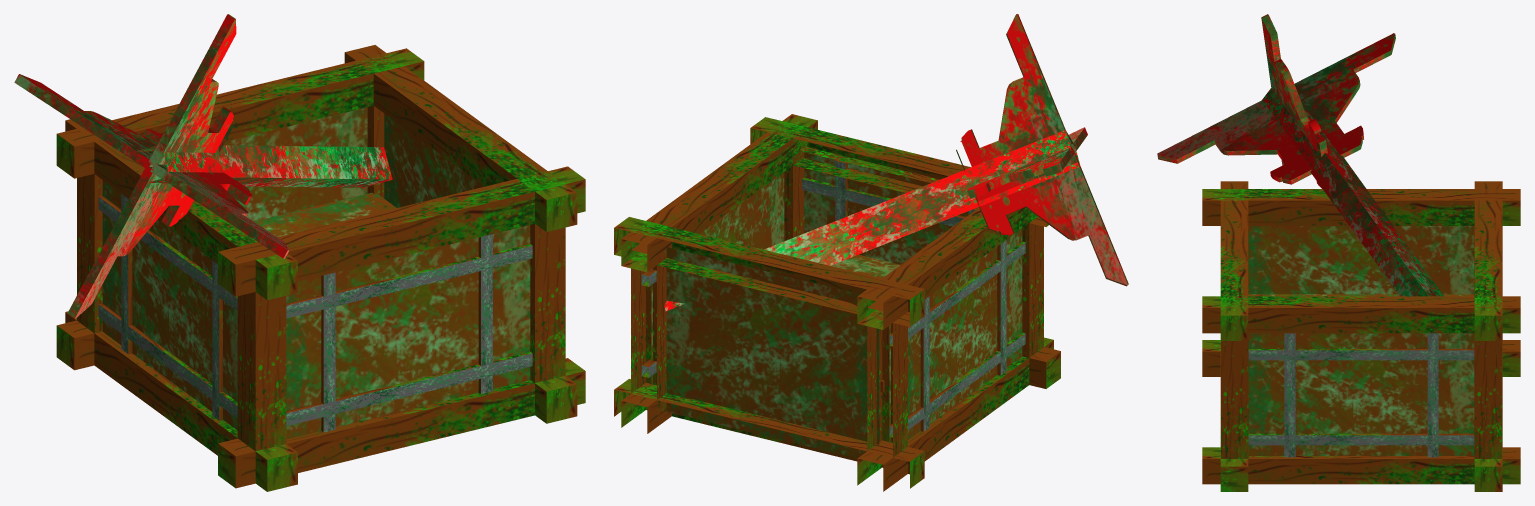
Rendered from Broken_Light_Stand 1.fbx.
The picture shows the model from 3 angles, left to right: view 1: azimuth 30°, elevation 25°; view 2: azimuth 150°, elevation 25°; view 3: azimuth 270°, elevation 25°; orthographic projection. The views are drawn at different scales.
Visible parts, largest first — view 1: light_broken_leg; view 2: light_broken_leg; view 3: light_broken_leg.
Boxes of the visible parts, x1,y1,x2,y2 form: light_broken_leg: (14, 14, 585, 491); light_broken_leg: (614, 14, 1128, 491); light_broken_leg: (1157, 14, 1520, 491).
Size of the model in its own units: 530 by 477 by 447.
